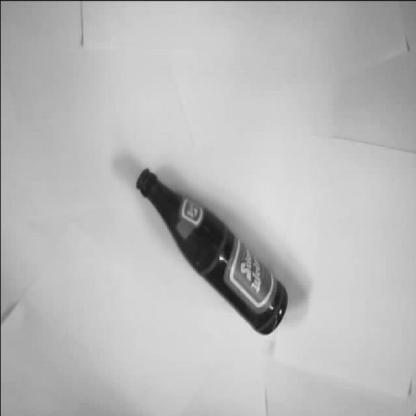Can: (134, 167, 288, 336)
